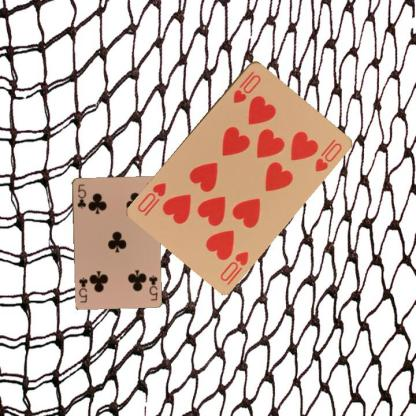10h: (230, 68, 262, 105), (217, 248, 250, 282)
5c: (146, 272, 158, 302), (75, 181, 87, 210)
